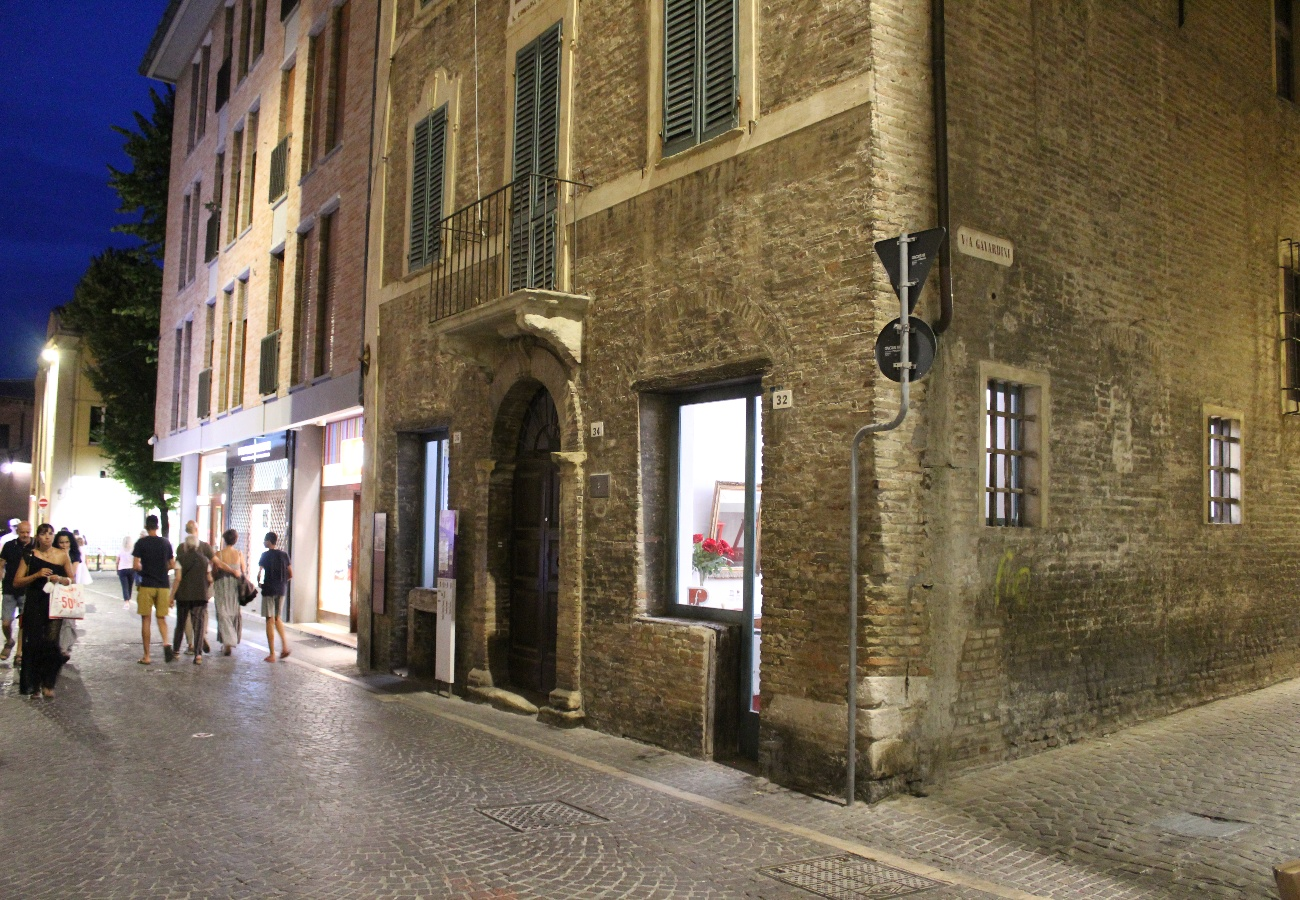Casa Rossini: (373, 1, 905, 800)
